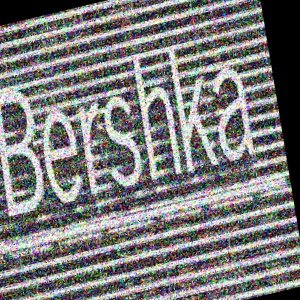bershka: (217, 0, 257, 49)
